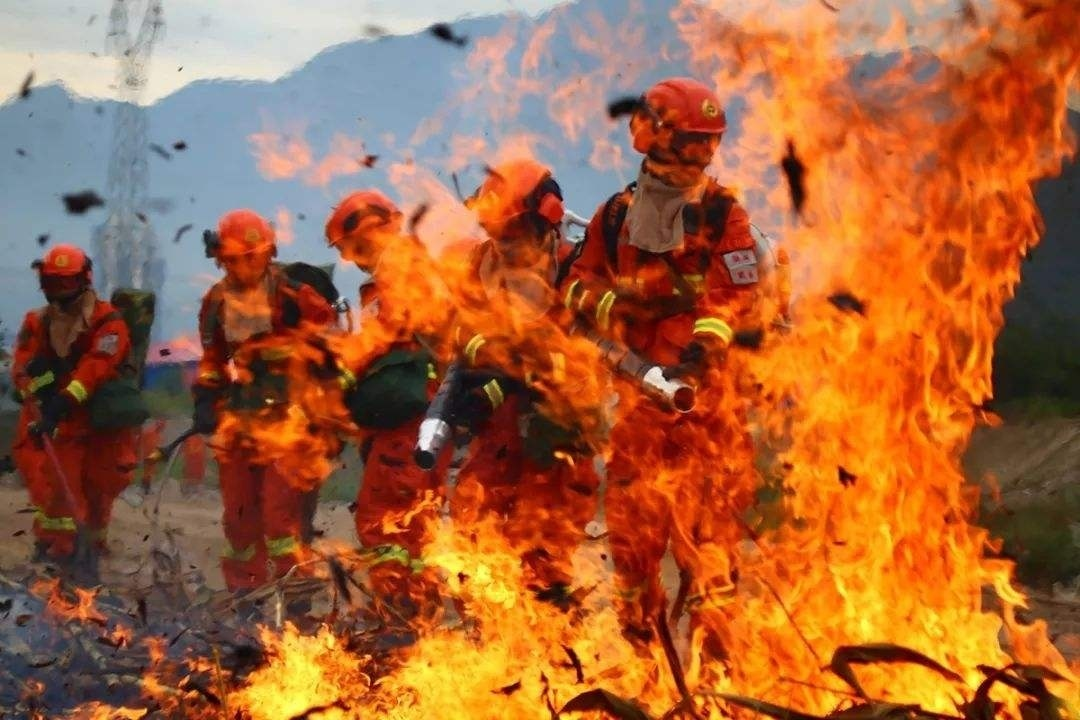fire: (170, 63, 1065, 710)
